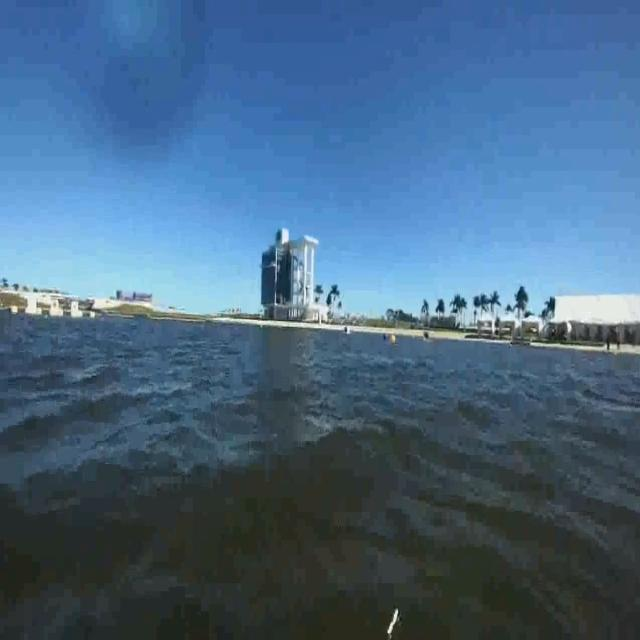yellow-buoy: (388, 334, 394, 347)
